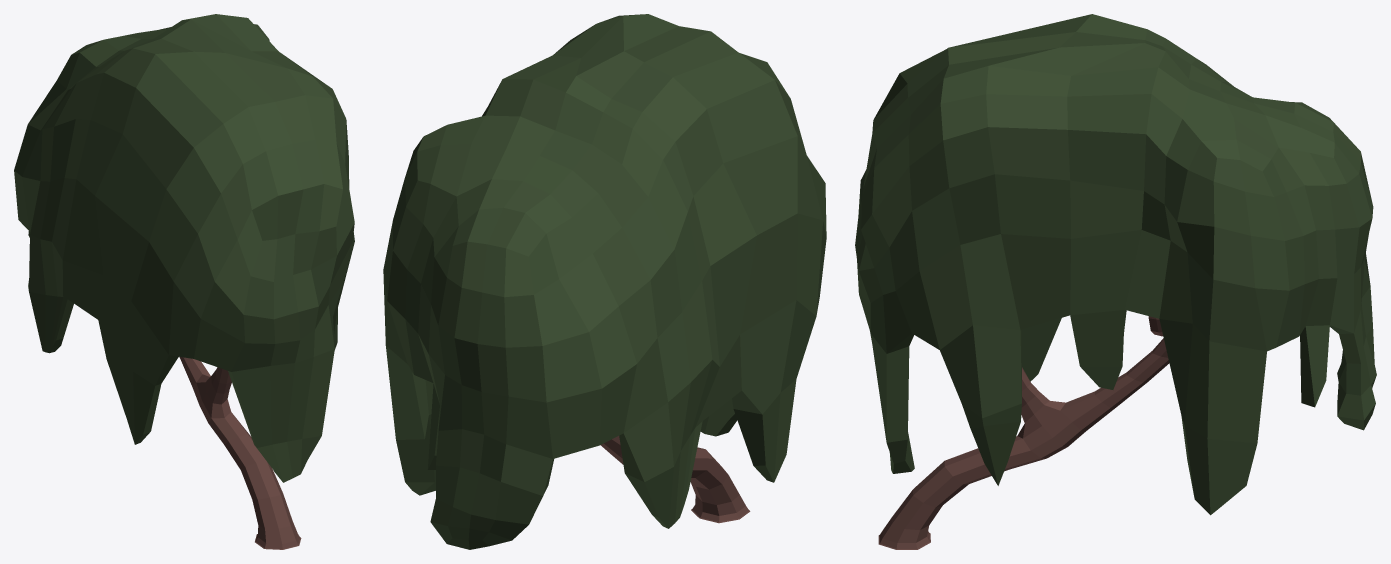
3 renders of one model, left to right at view 1: azimuth 30°, elevation 25°; view 2: azimuth 150°, elevation 25°; view 3: azimuth 270°, elevation 25°, orthographic. The views are drawn at different scales.
Parts seen in each view (by area): view 1: Willow_2; view 2: Willow_2; view 3: Willow_2.
Boxes of the visible parts, bbox=[...] form: Willow_2: bbox=[14, 14, 354, 549]; Willow_2: bbox=[383, 14, 826, 549]; Willow_2: bbox=[855, 14, 1376, 549].
Bounding box in the file's own units: 1.95 × 3.32 × 3.11.
